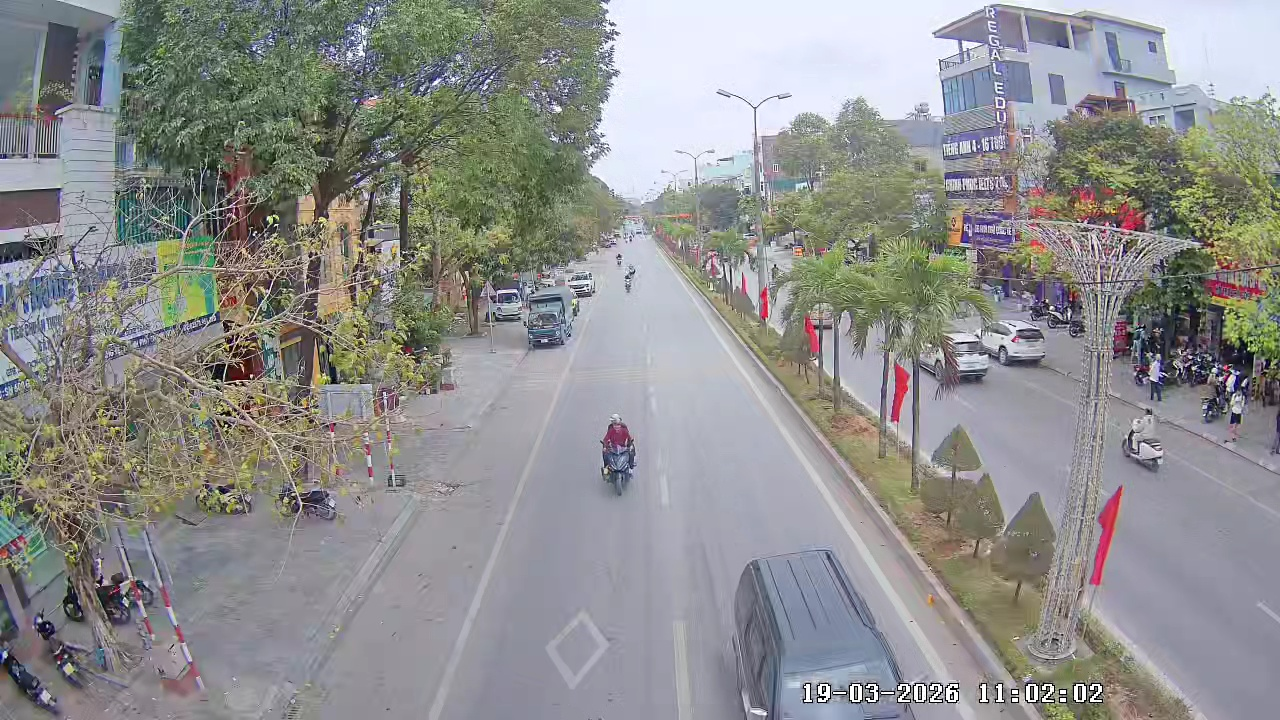car: (724, 547, 917, 719), (1000, 325, 1048, 367), (953, 346, 990, 384), (566, 266, 596, 298)
motorbike: (597, 411, 638, 497), (1120, 405, 1166, 472), (619, 263, 637, 293)
truck: (523, 287, 574, 349)
